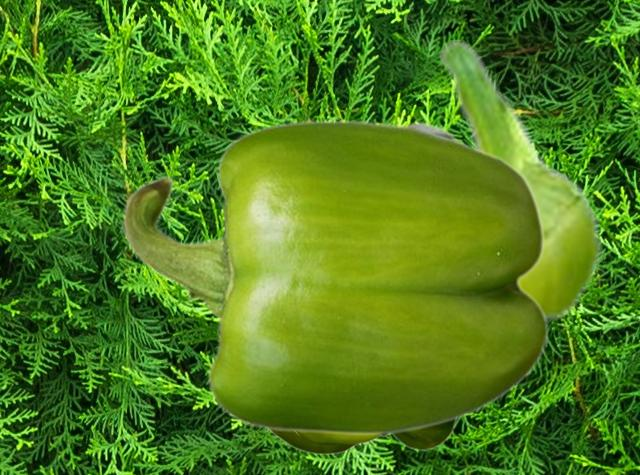bell_pepper: (122, 119, 548, 435), (430, 40, 603, 328), (269, 420, 458, 454)
